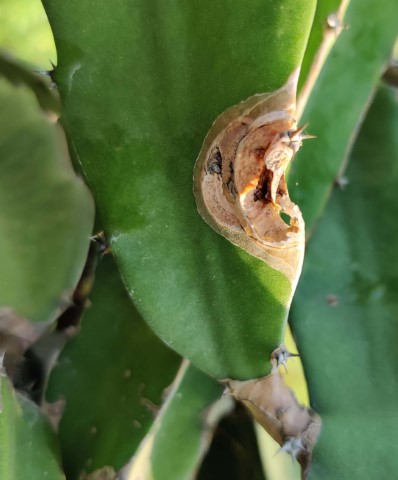stemcanker: (192, 67, 306, 293)
